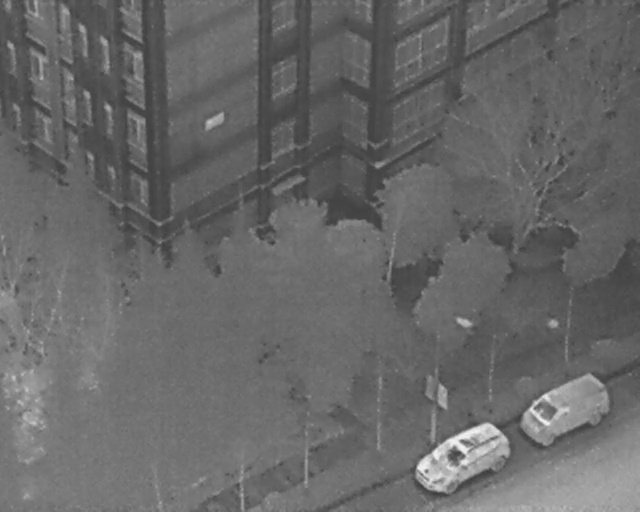Car: (406, 413, 517, 505), (512, 365, 619, 456)
